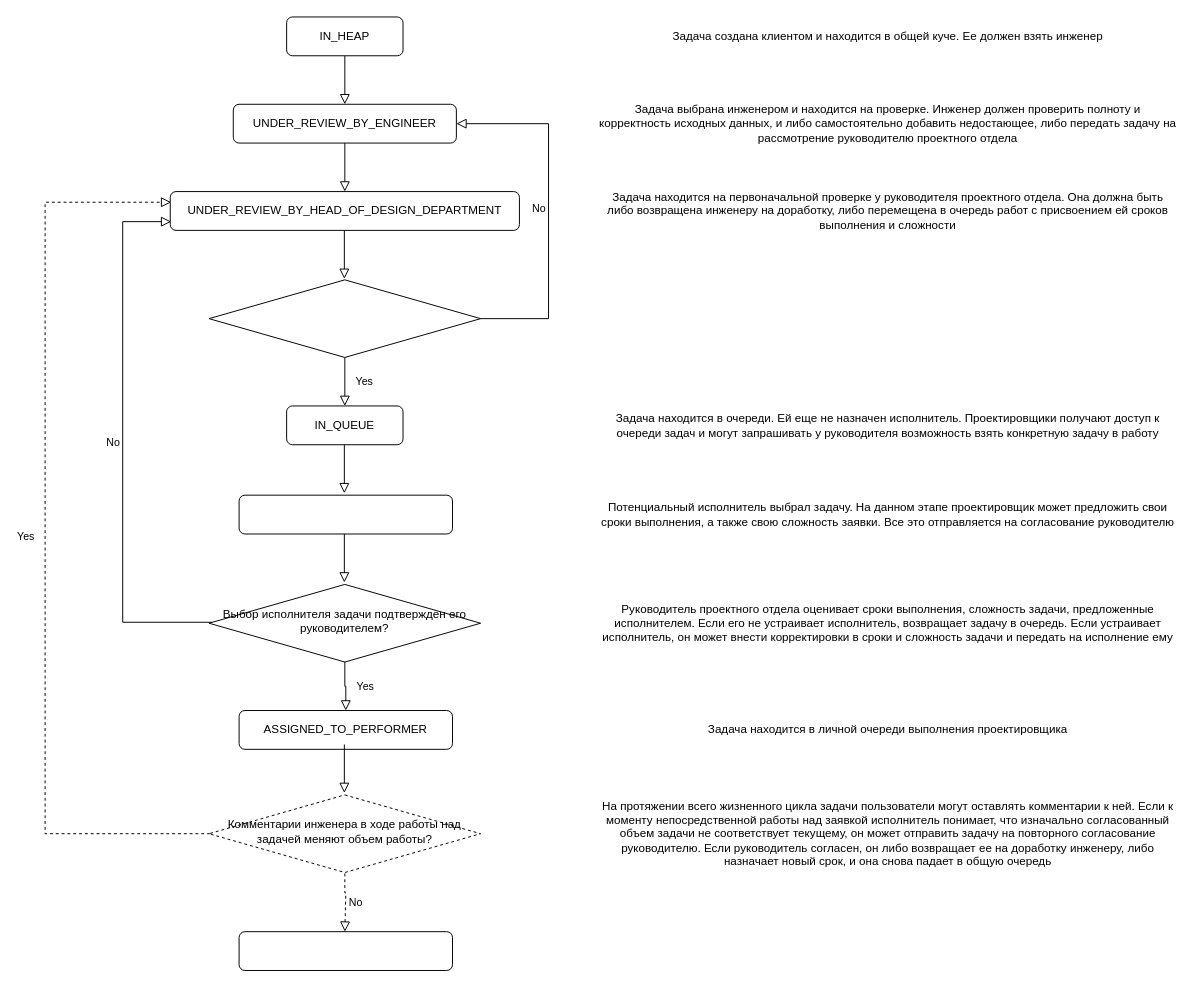
The diagram is 1195 pixels wide and 987 high, and some of its shapes have lost their labels. Each missing label, with the box of its shape:
CHOSEN_BY_DESIGNER: (238, 494, 453, 534)
UNDER: (238, 931, 453, 970)
Исходные данные в норме?: (208, 279, 481, 357)
